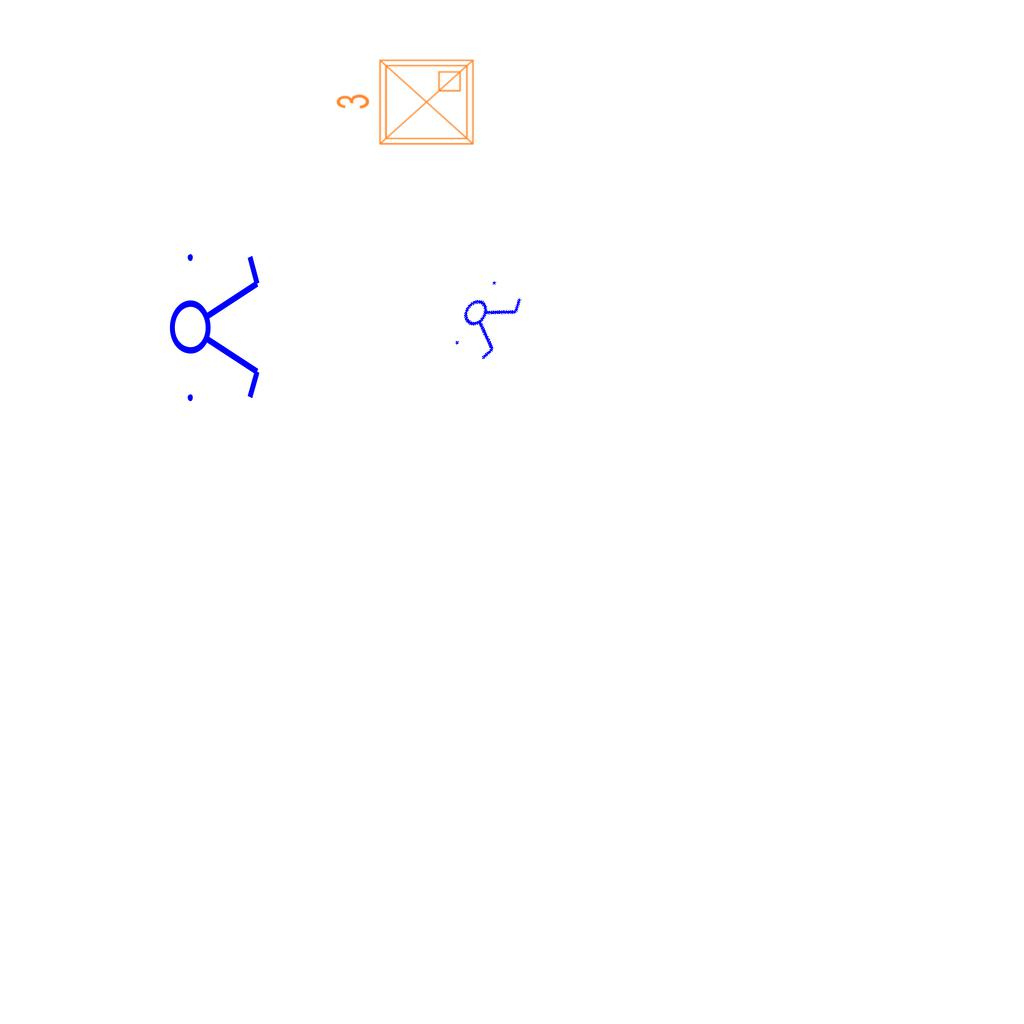Einbaudownlights_LED_Konferenzraeume: (331, 52, 481, 156)
Serienschalter: (168, 242, 264, 410), (444, 270, 530, 368)
